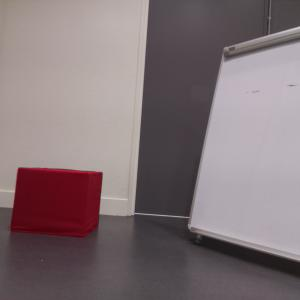big: (190, 23, 300, 271)
medium: (10, 166, 103, 239)
